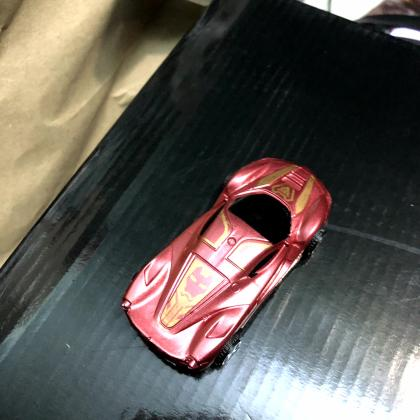Car: (121, 158, 333, 379)
